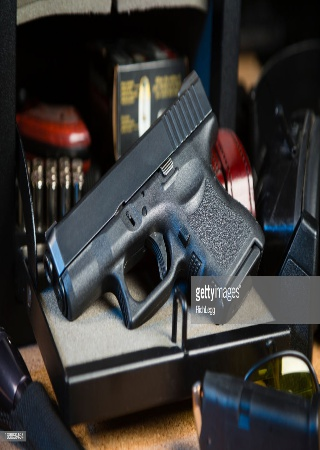handgun: (46, 49, 270, 324)
